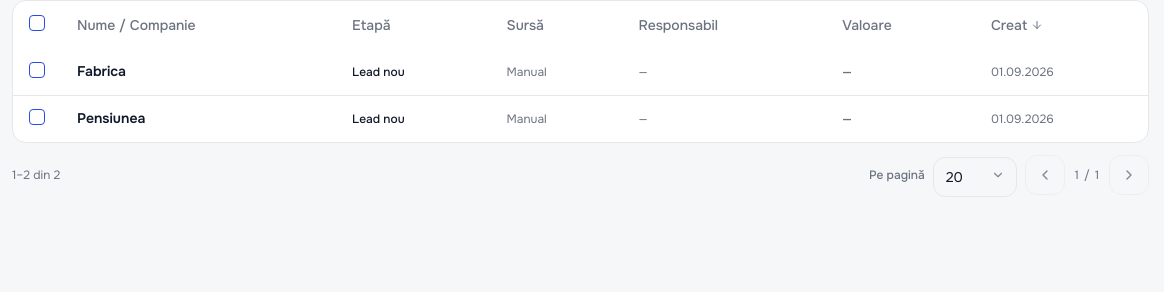
Test: Selecția multiplă în listă › [blocant] bara apare abia după o selecție și spune că e DOAR pagina curentă
The width and height of the screenshot is (1164, 292).
Expected: the text "Fabrica" is shown, [77,62,126,80]
Click the checkbox named "Selectează Fabrica". click: click(37, 70)
box: [29,62,45,78]
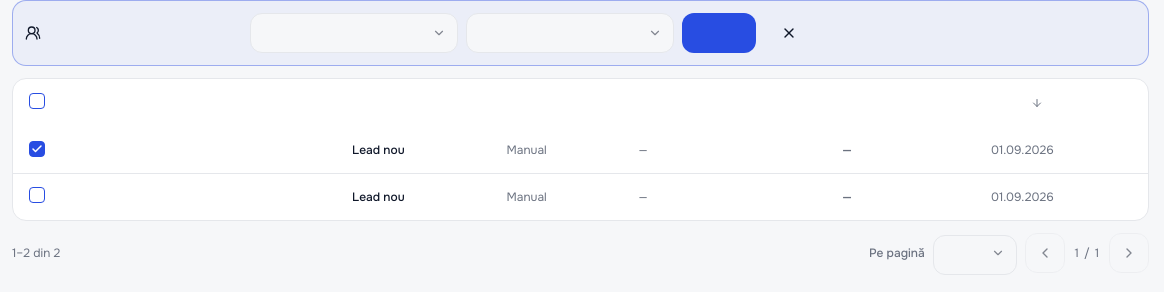
Expected: the element named "Acțiuni în masă" is shown, [12,0,1149,66]
Expected: the text "1 selectat pe această pagină" is shown, [25,24,238,42]
